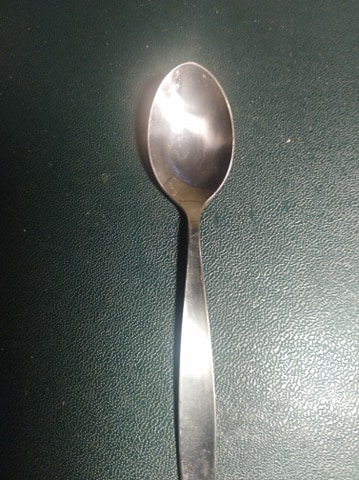Lyzka: (139, 59, 243, 217)
